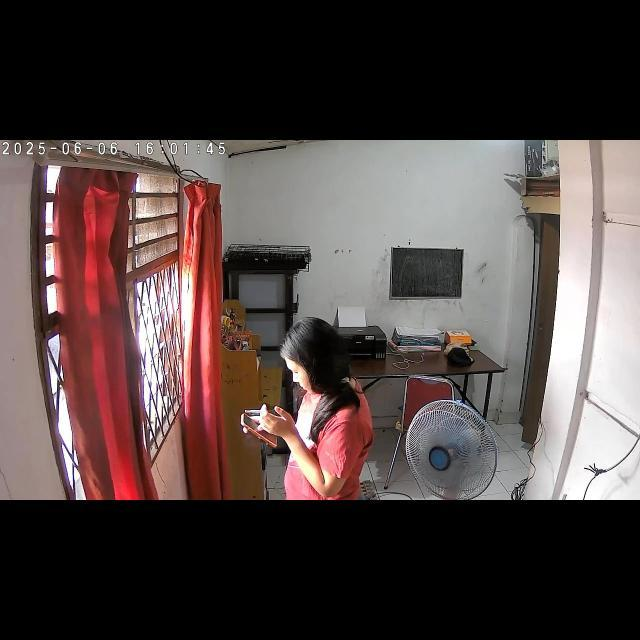rokok: (240, 406, 272, 418)
